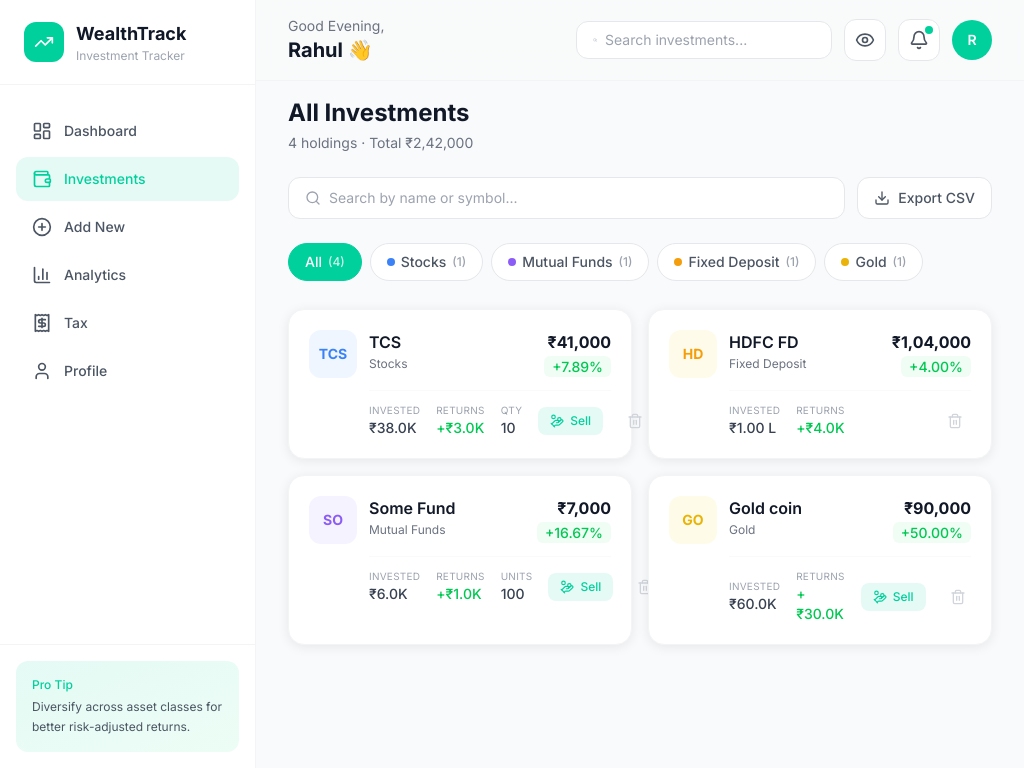
Test: Sell dialog › asks for the tax subtype where it matters, and shows server errors
The width and height of the screenshot is (1024, 768).
Check: the heading "Some Fund" is shown, box [369, 496, 456, 520]
Click the button "Sell" next to "Units" at (581, 586), box [548, 572, 613, 600]
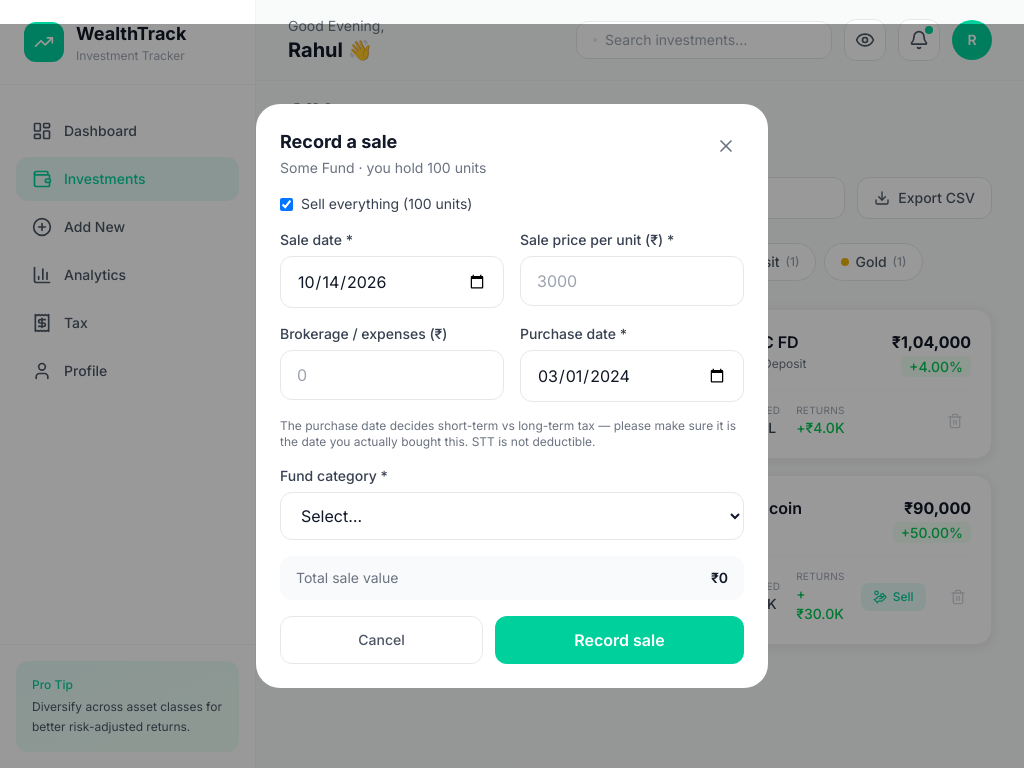
Check: the text "Fund category *" is shown, box [280, 467, 388, 484]
Click the button named "Close" at (726, 146), box [708, 128, 744, 164]
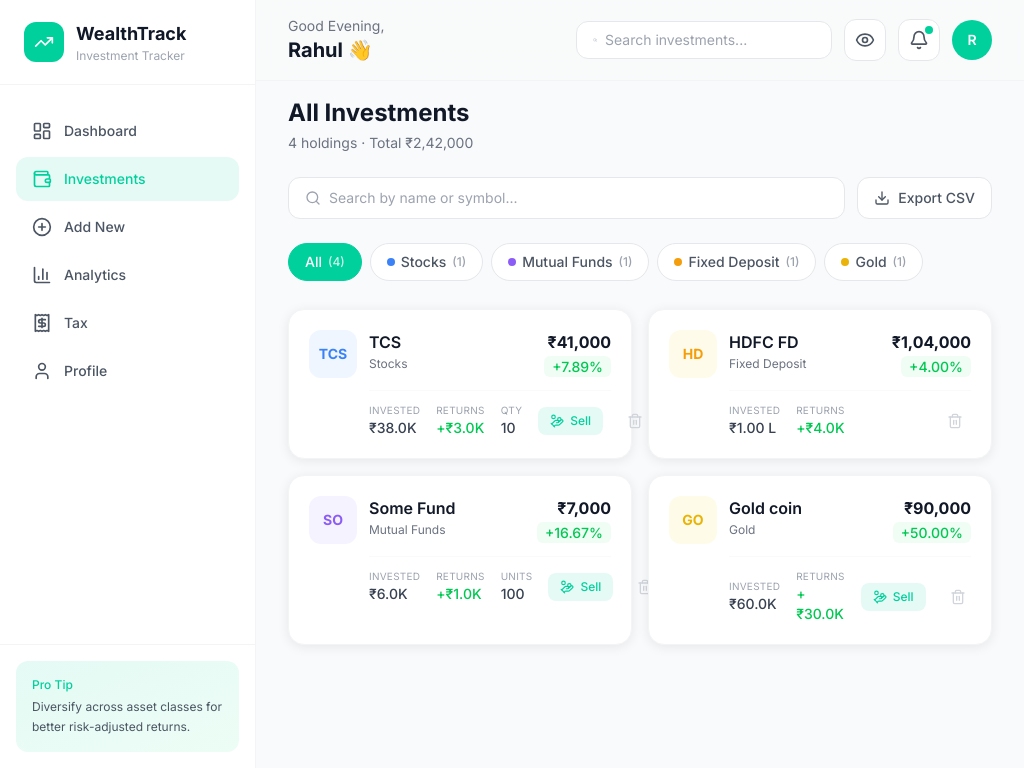
Click the button "Sell" next to "+₹30.0K" at (893, 596), box [861, 582, 926, 610]
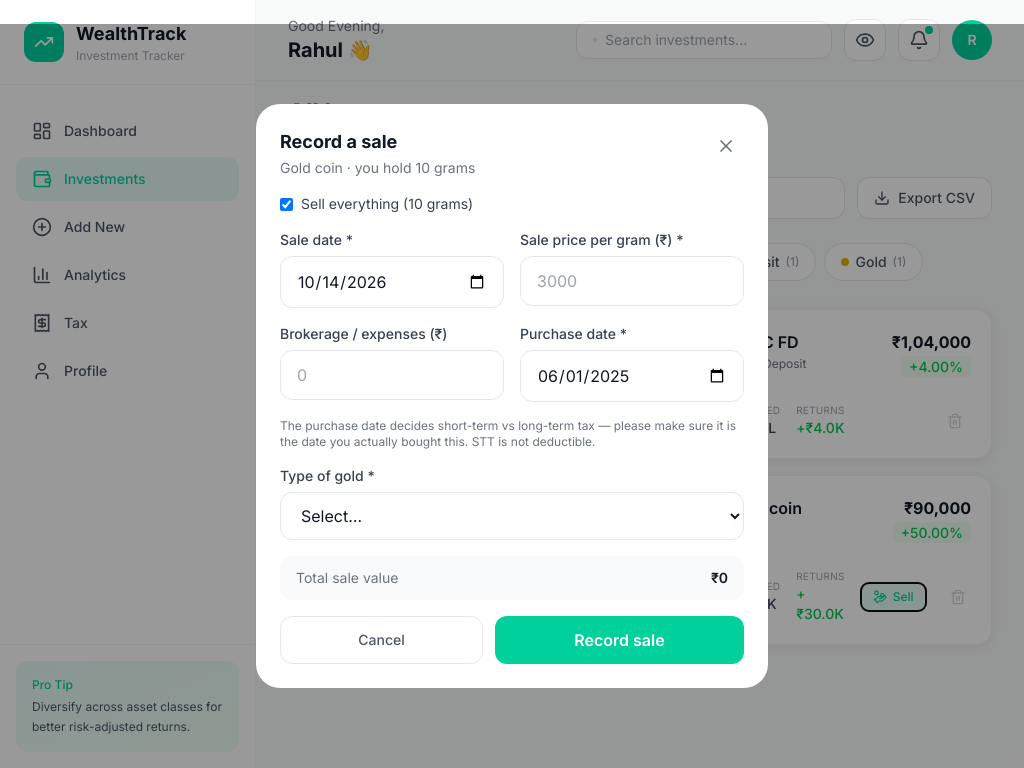
Check: the text "Type of gold *" is shown, box [280, 467, 375, 484]
# server-side rejection is displayed inside the dialog
Select "Physical / digital gold / gold fund" in the dropdown at (512, 516), box [280, 492, 744, 540]
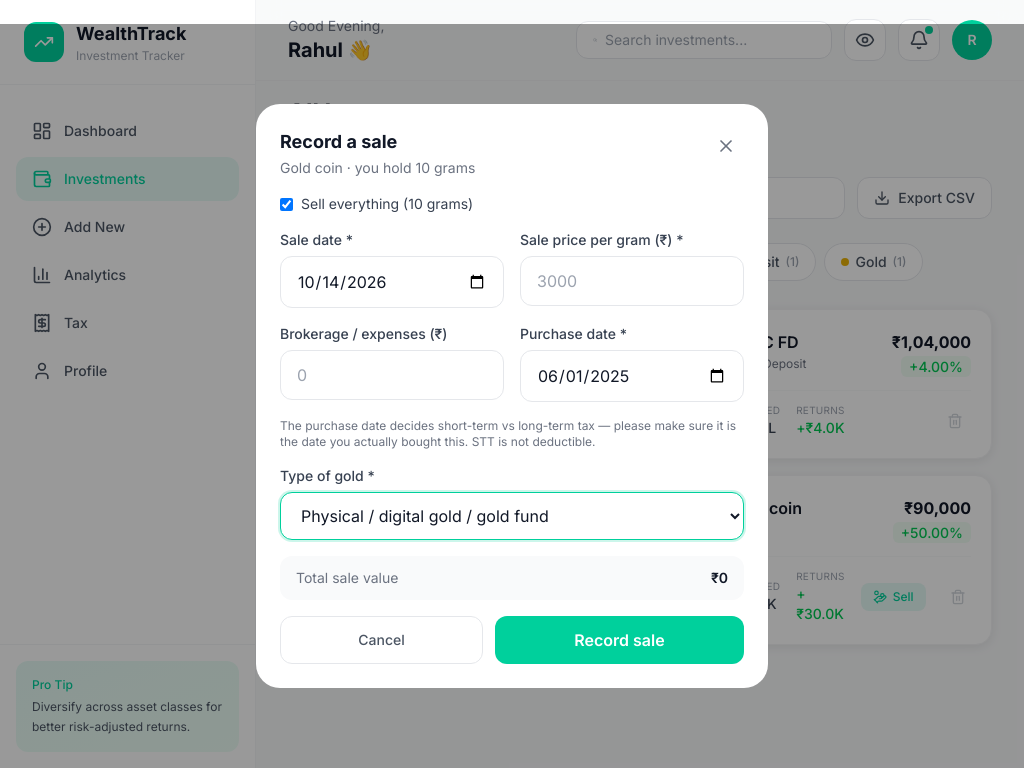
Type "1" into the number field with placeholder "3000" at (632, 281), box [520, 256, 744, 306]
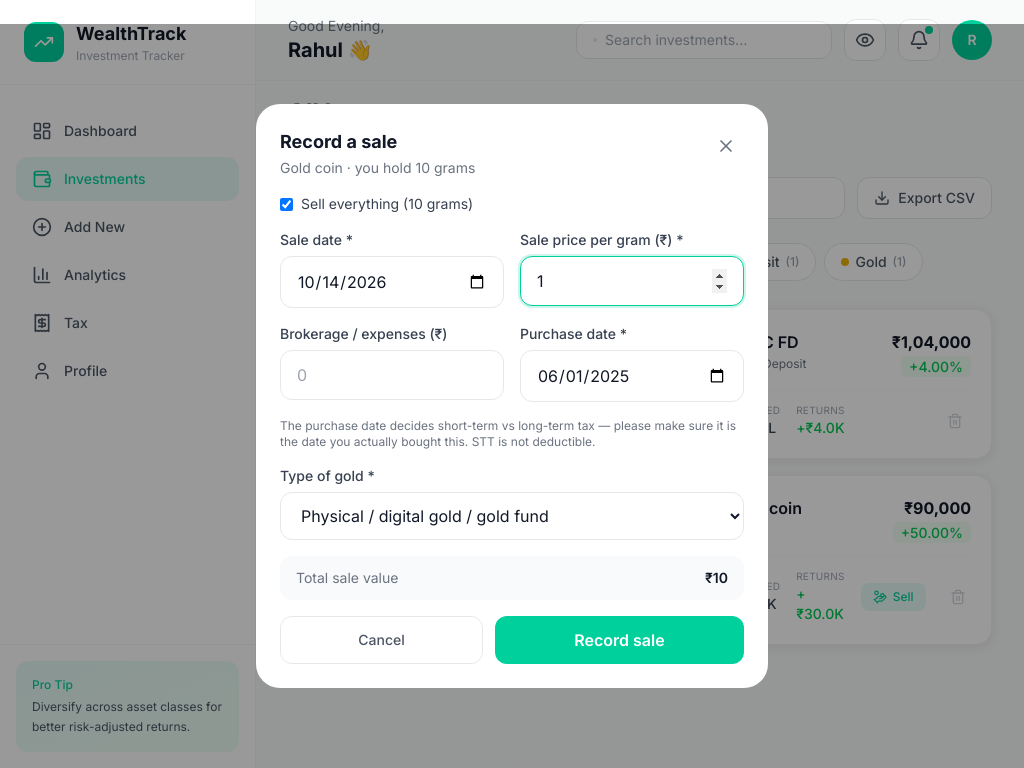
Click the button "Record sale" at (620, 640), box [495, 616, 744, 664]
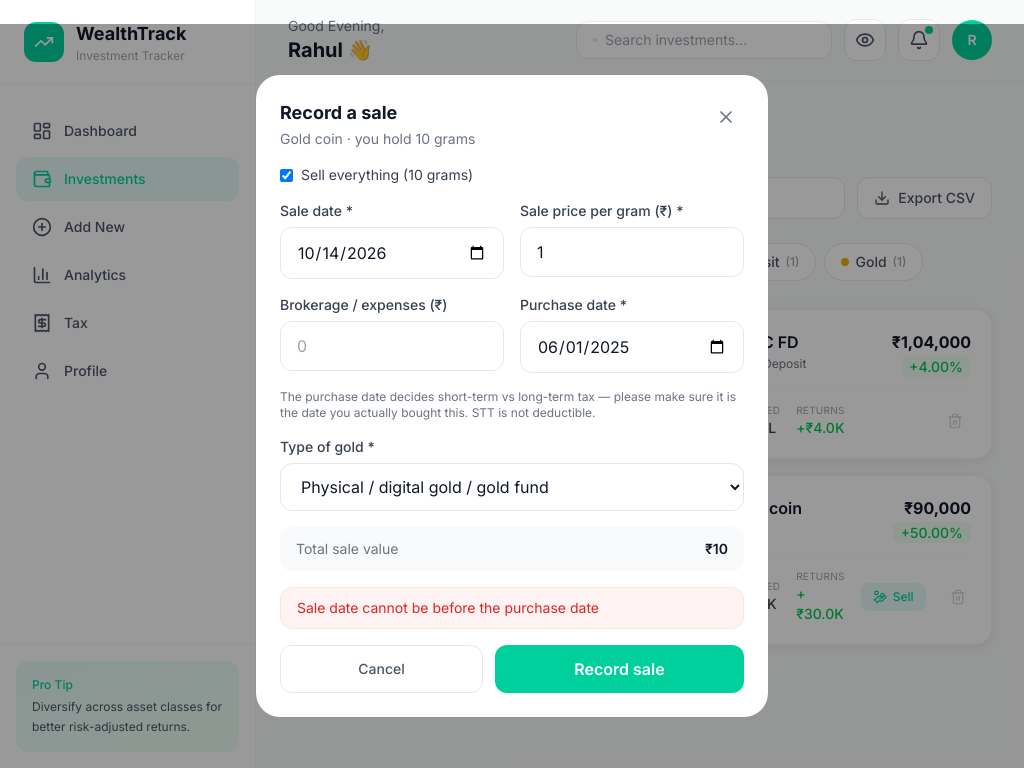
Check: the date field below "Sale date *" is shown, box [280, 227, 504, 279]
Check: the message shows "before the purchase date", box [297, 599, 599, 616]
